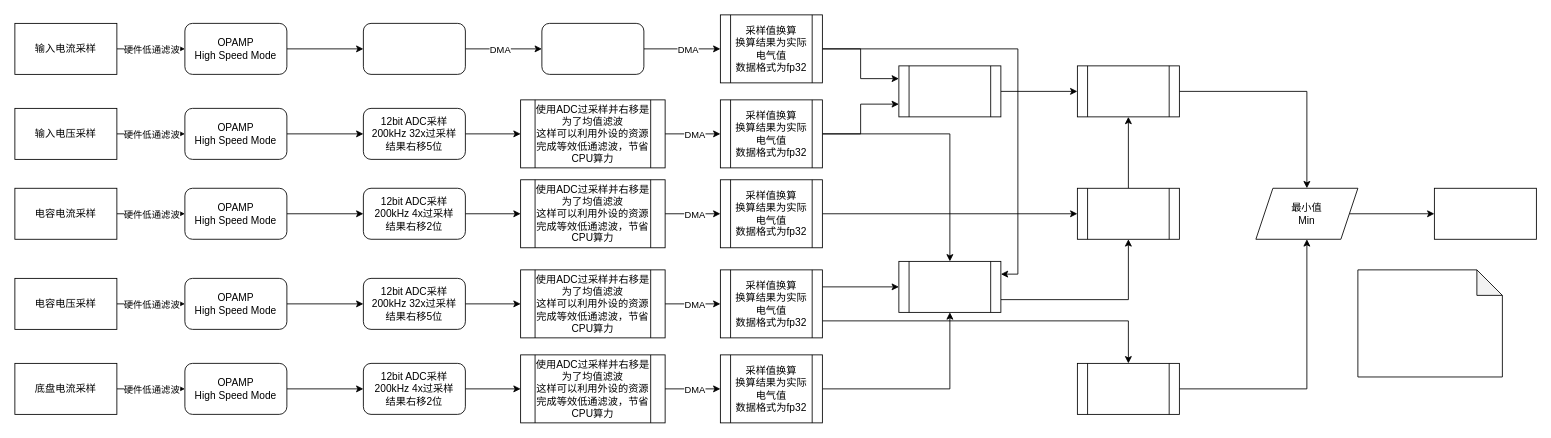
The diagram is 1551 pixels wide and 438 high, and some of its shapes have lost their labels. The centre of each missing label's shape, as x and y in pixels:
"12bit ADC采样 400kHz 无过采样" goes at point (414, 48).
"FMAC外设 一阶IIR" goes at point (592, 48).
"HRPWM占空比数据 格式fp32" goes at point (1485, 213).
"两个输入相乘 作为输入 输入功率环" goes at point (949, 91).
"某种计算公式 输出电流计算" goes at point (949, 286).
"框图中所有的PID框图 除了输出电流环的目标值是 功率环的输出值 剩余的两个PID计算中的 目标值均被省略" goes at point (1429, 323).
"输入电流 数据选择" goes at point (1128, 213).
"输出电压环 输出为占空比 格式fp32" goes at point (1128, 388).
"输出电流环 输出为占空比 格式fp32" goes at point (1128, 91).
